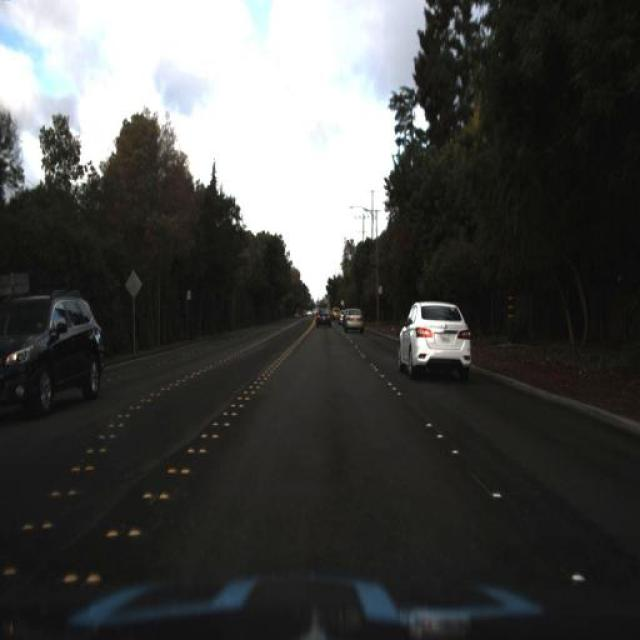car: (1, 287, 107, 419), (392, 296, 472, 388), (344, 304, 366, 338), (314, 302, 334, 326)
